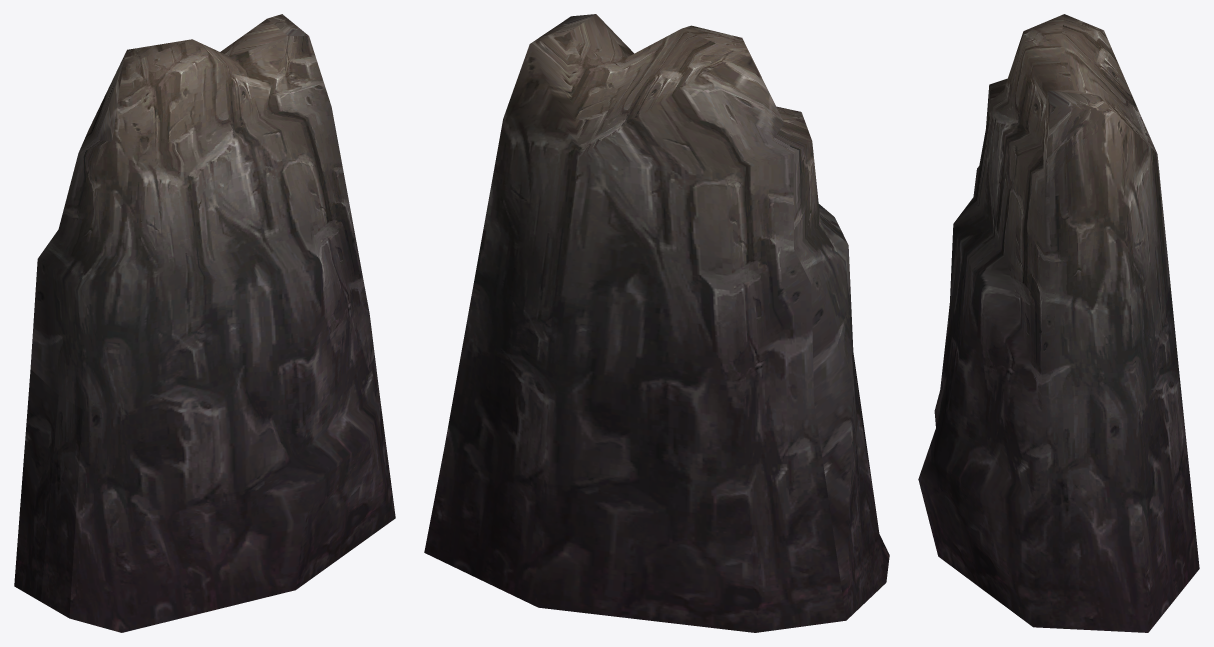
The model's file is environment_stone_qiaobi_002_b.FBX.
3 views of the same model, side by side, from view 1: azimuth 30°, elevation 25°; view 2: azimuth 150°, elevation 25°; view 3: azimuth 270°, elevation 25° (orthographic). The views are drawn at different scales.
Parts seen in each view (by area): view 1: environment_stone_qiaobi_002_b; view 2: environment_stone_qiaobi_002_b; view 3: environment_stone_qiaobi_002_b.
Boxes of the visible parts, bbox=[...] form: environment_stone_qiaobi_002_b: bbox=[14, 14, 395, 632]; environment_stone_qiaobi_002_b: bbox=[424, 14, 889, 632]; environment_stone_qiaobi_002_b: bbox=[918, 14, 1199, 632].
Size of the model in its own units: 429 by 574 by 292.
